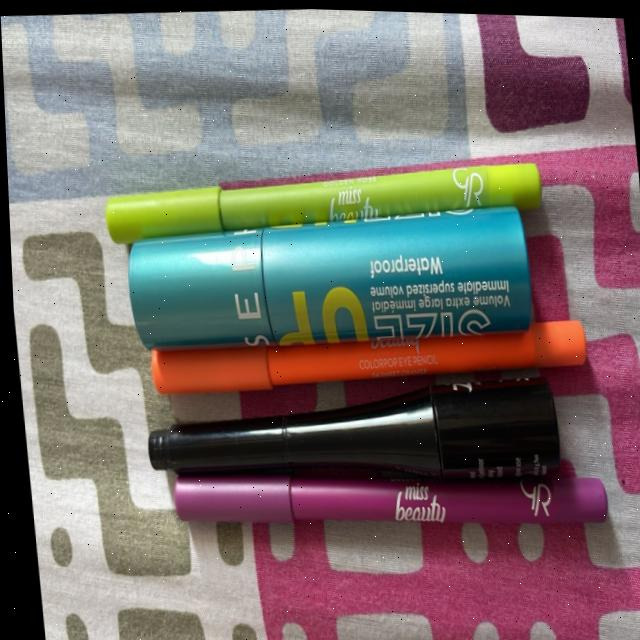lip liner: (130, 307, 596, 564), (88, 117, 545, 254)
mascara: (109, 208, 575, 359)
